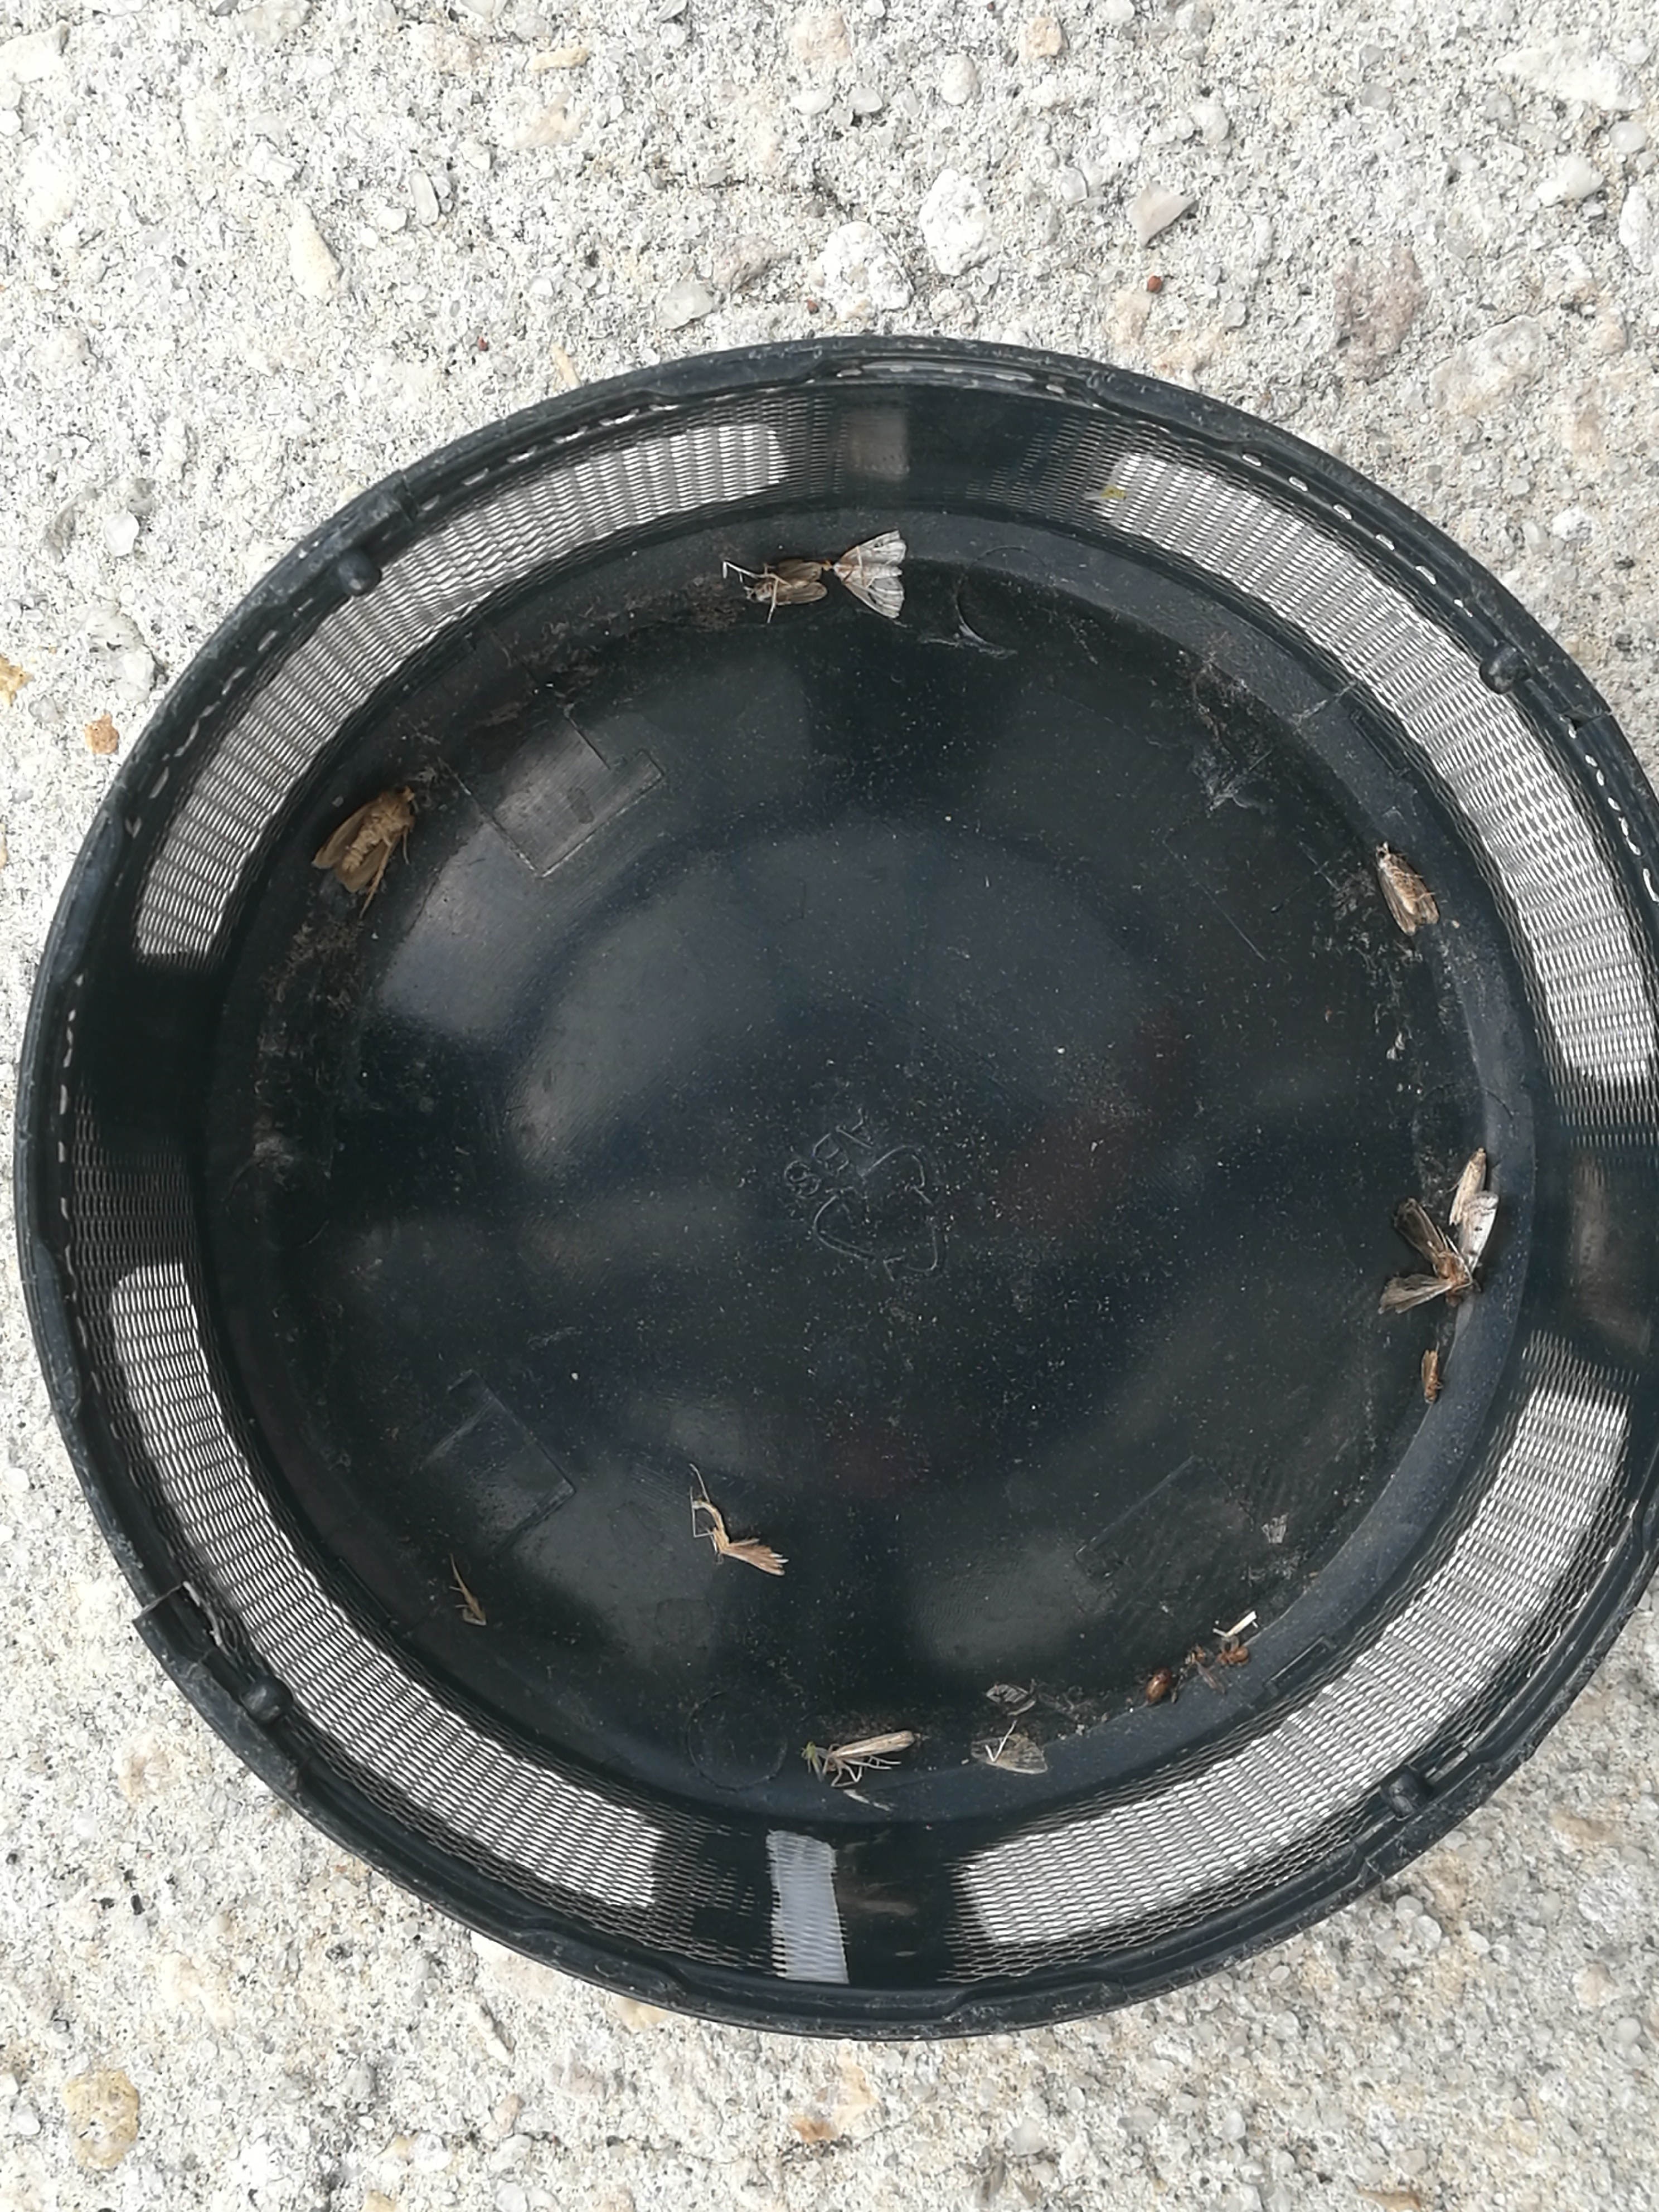mosquito: (823, 1731, 910, 1789), (1450, 1148, 1488, 1224), (1424, 1350, 1439, 1406)
moth: (310, 786, 418, 894), (1384, 1202, 1469, 1313), (836, 531, 906, 618), (1375, 841, 1438, 934), (746, 563, 824, 606)
